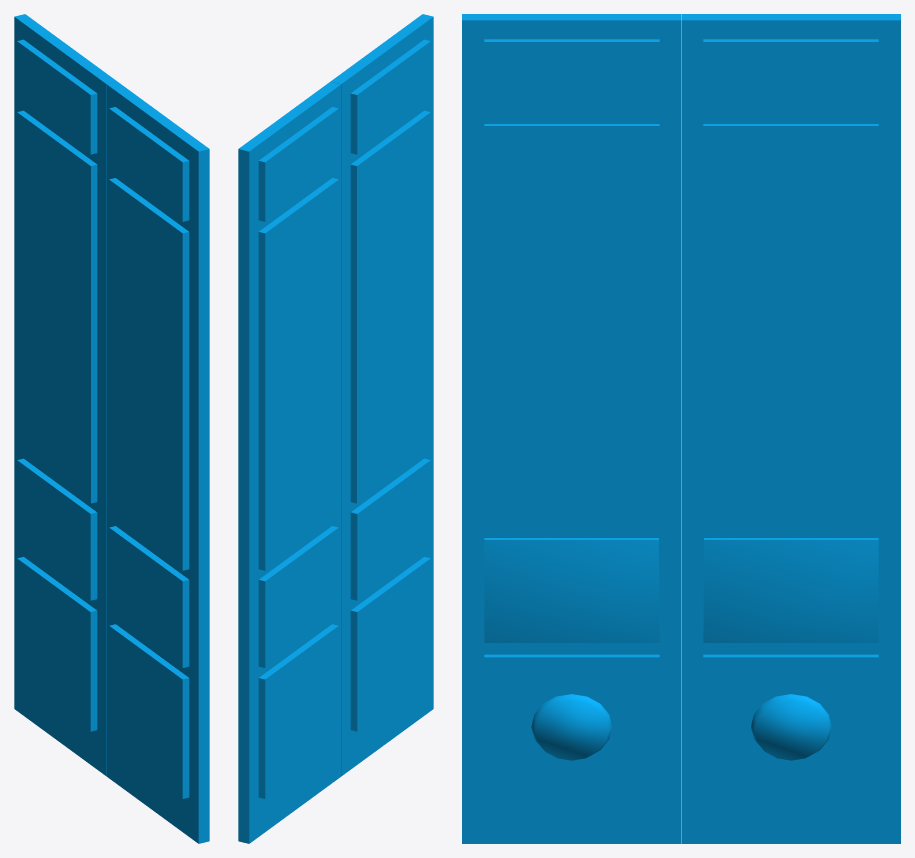
Rendered from doors.fbx.
The picture shows the model from 3 angles, left to right: view 1: azimuth 30°, elevation 25°; view 2: azimuth 150°, elevation 25°; view 3: azimuth 270°, elevation 25°; orthographic projection. The views are drawn at different scales.
Parts seen in each view (by area): view 1: door_right, door_left; view 2: door_left, door_right; view 3: door_left, door_right.
Part boxes in pixels (box(x1,y1,x2,y2)): door_right: box(106, 81, 209, 843); door_left: box(14, 14, 116, 776); door_left: box(238, 81, 341, 843); door_right: box(331, 14, 433, 776); door_left: box(681, 14, 900, 843); door_right: box(462, 14, 681, 843).
Size of the model in its own units: 0.1737 by 3.81 by 1.84.
